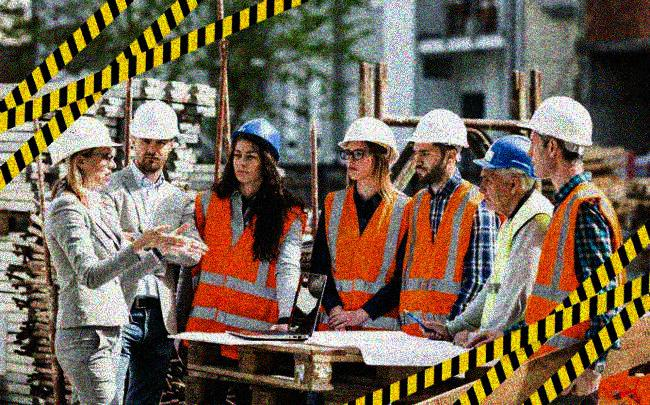helmet: (518, 97, 594, 176), (473, 133, 541, 211), (47, 117, 123, 186), (404, 108, 471, 183), (336, 117, 400, 179), (126, 98, 180, 171), (231, 117, 281, 184)
